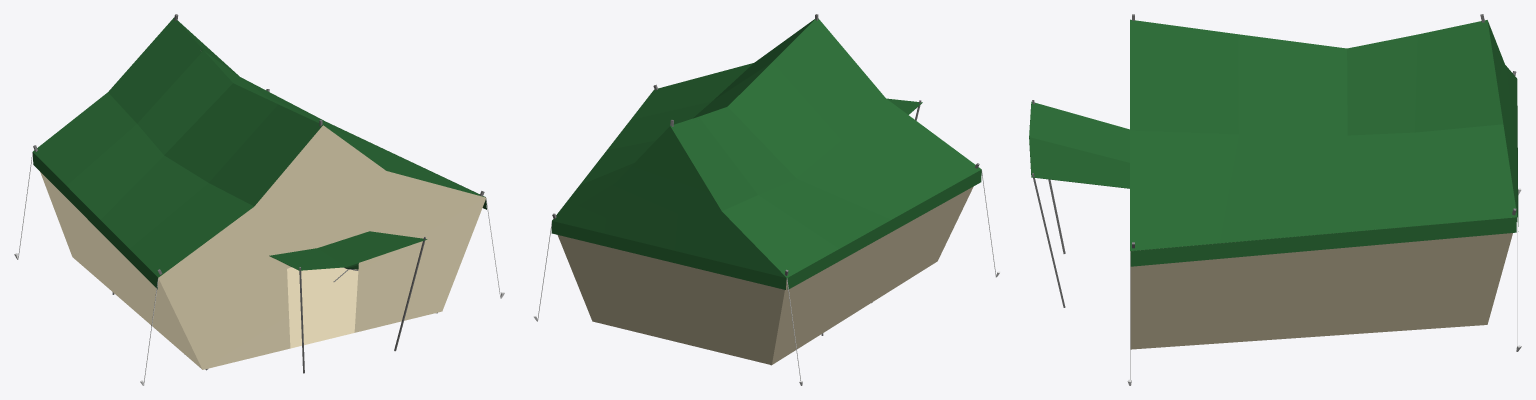
Rendered from sanitдszelt_08.fbx.
The picture shows the model from 3 angles, left to right: view 1: azimuth 30°, elevation 25°; view 2: azimuth 150°, elevation 25°; view 3: azimuth 270°, elevation 25°; orthographic projection. The views are drawn at different scales.
Visible parts, largest first — view 1: dach, zeltwände, Deckfläche_2_6, dach_2, wände, vordach, bande1; view 2: dach, zeltwände, Deckfläche_1_6, dach_2, wände, bande2, bande1; view 3: dach, zeltwände, dach_2, vordach, bande3, wände, Deckfläche_1_6.
Part boxes in pixels (box(x1,y1,x2,y2)): dach: box(33, 17, 484, 277); zeltwände: box(40, 172, 486, 369); Deckfläche_2_6: box(159, 125, 485, 277); dach_2: box(36, 23, 476, 271); wände: box(79, 202, 481, 368); vordach: box(269, 231, 427, 270); bande1: box(32, 152, 157, 289); dach: box(552, 18, 981, 277); zeltwände: box(557, 187, 972, 365); Deckfläche_1_6: box(552, 126, 786, 277); dach_2: box(593, 21, 978, 275); wände: box(586, 188, 972, 361); bande2: box(551, 221, 786, 289); bande1: box(787, 169, 981, 289); dach: box(1130, 19, 1517, 251); zeltwände: box(1130, 233, 1512, 349); dach_2: box(1130, 20, 1501, 250); vordach: box(1029, 101, 1129, 188); bande3: box(1130, 217, 1516, 266); wände: box(1190, 236, 1505, 324); Deckfläche_1_6: box(1487, 20, 1517, 214).
Bounding box in the file's own units: 853 × 496 × 827.
